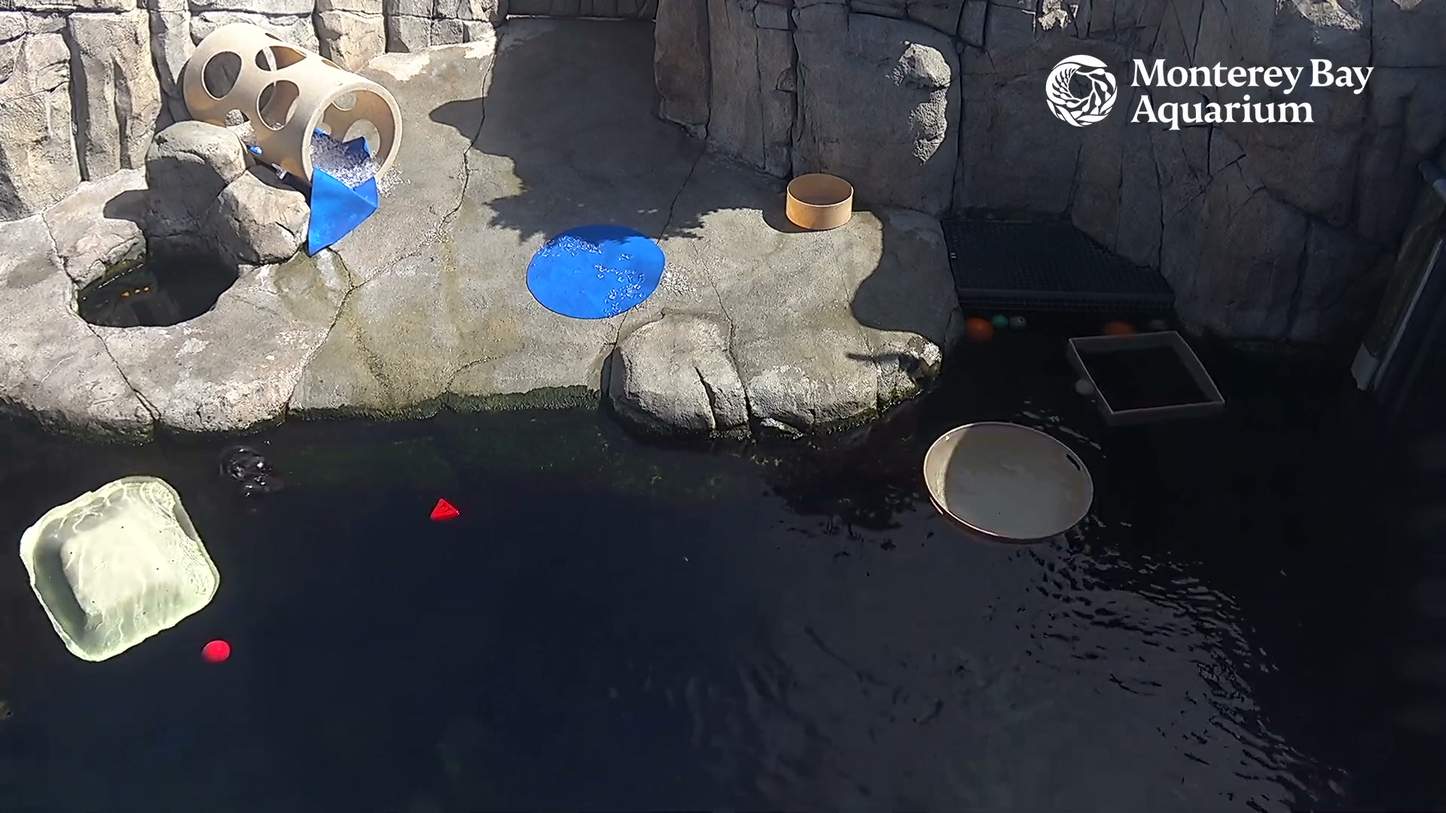Southern Sea Otter: (203, 425, 306, 525)
